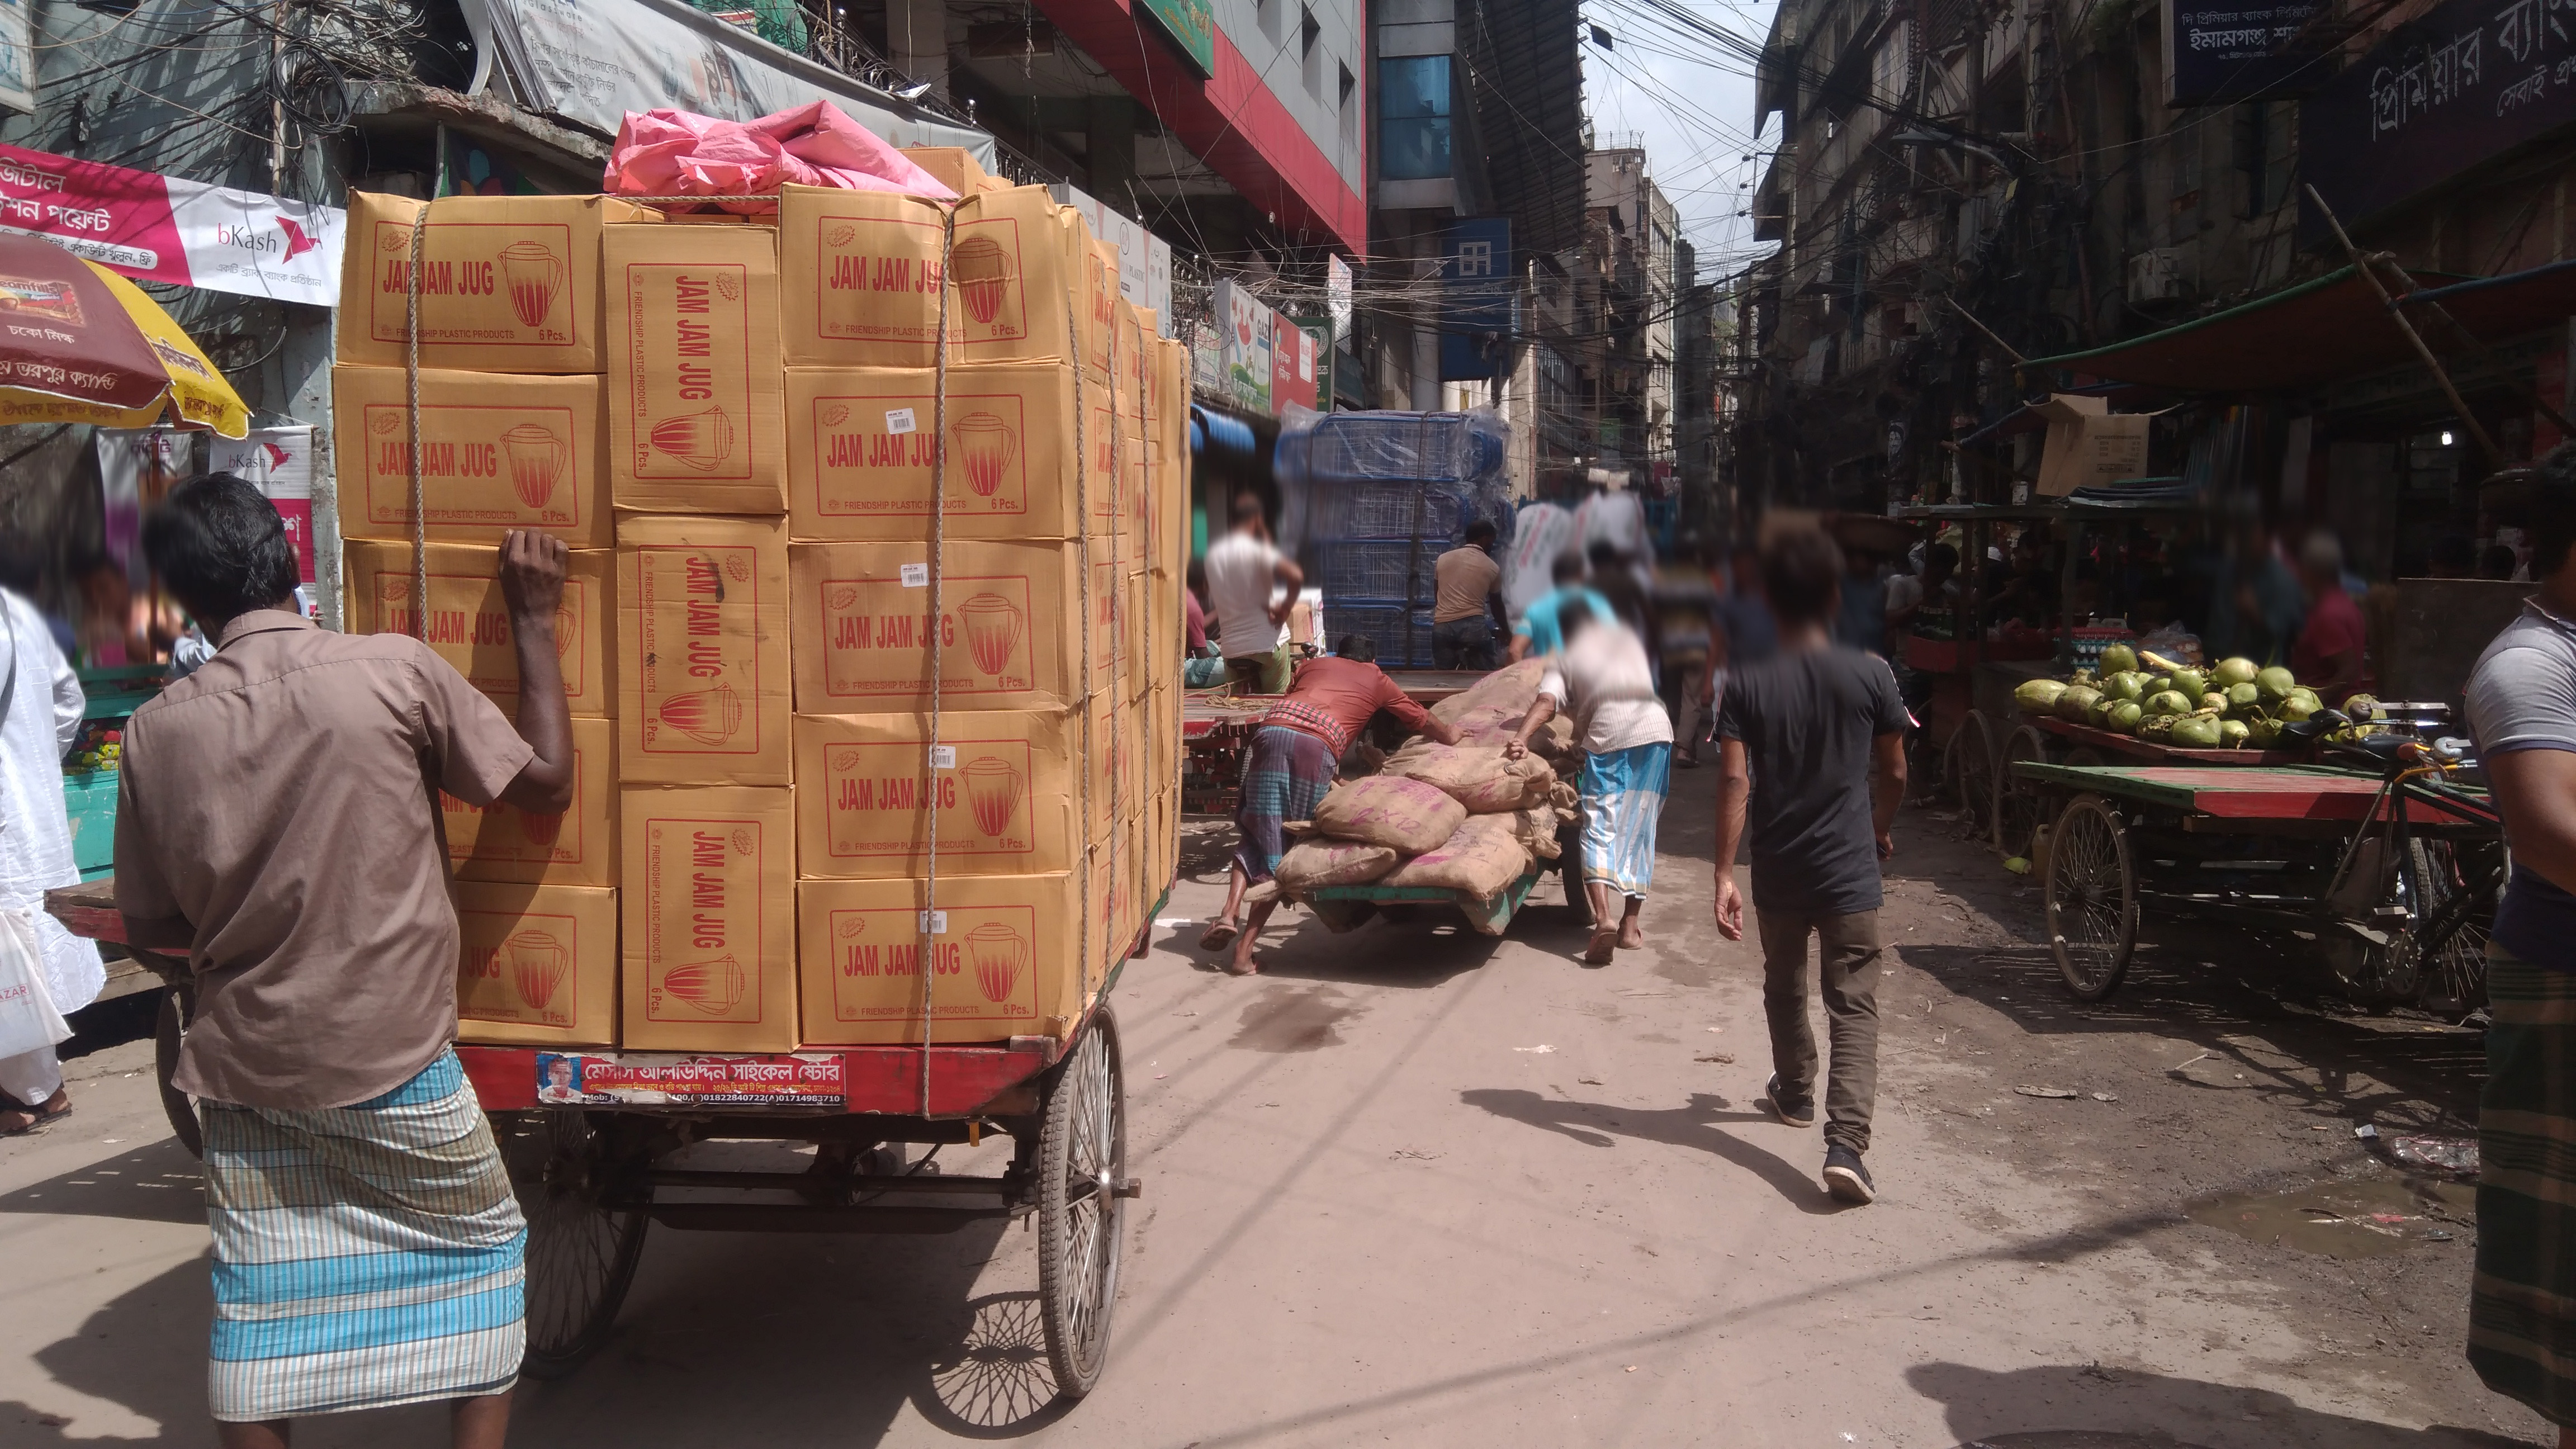van: (226, 856, 1173, 1431), (2024, 720, 2541, 1003)
wheelbarrow: (1242, 591, 1642, 964)
